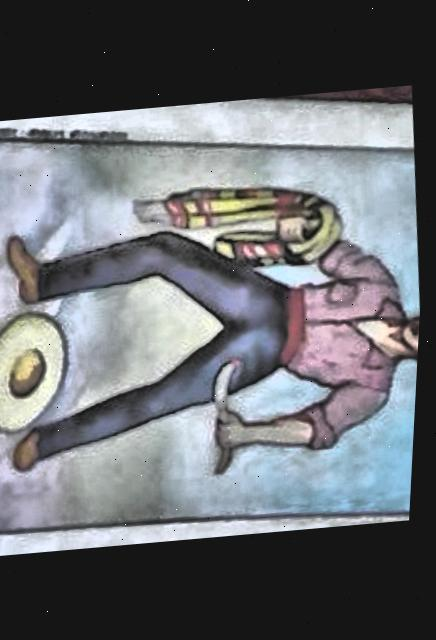El Valiente: (0, 133, 423, 526)
